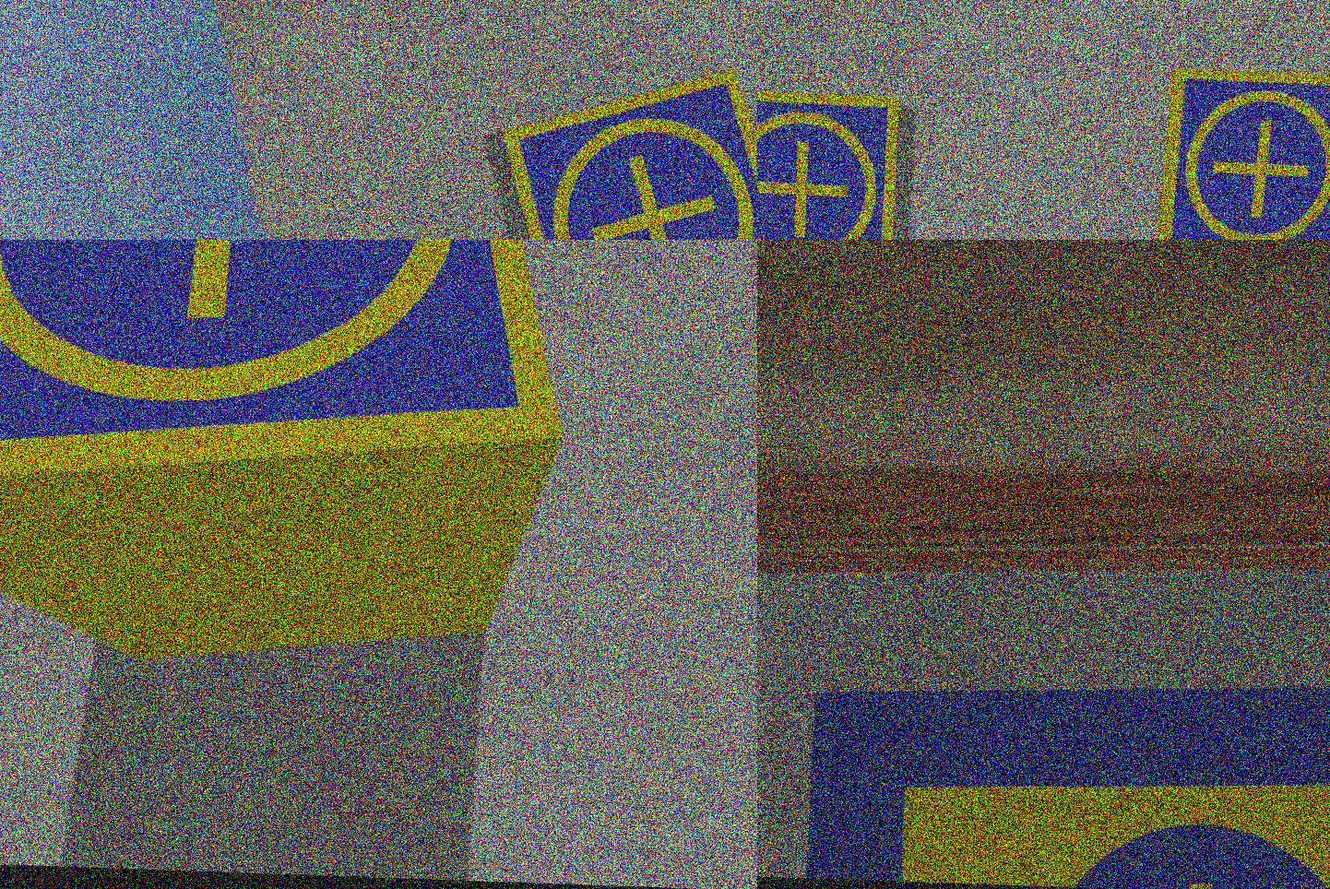large_base: (804, 664, 1330, 889)
small_base: (1, 240, 582, 535), (491, 63, 757, 240), (1150, 64, 1330, 240), (757, 86, 908, 240)
